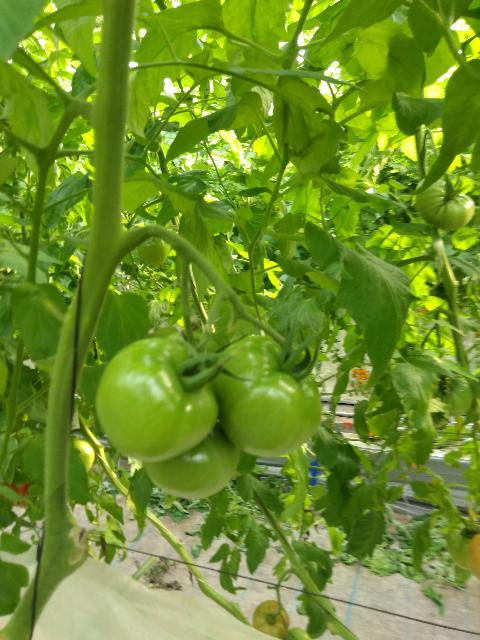b_green: (95, 337, 217, 464), (213, 335, 321, 458), (142, 422, 241, 500), (416, 174, 476, 231), (446, 521, 479, 570), (137, 237, 168, 266), (71, 439, 96, 474)
b_half_ripened: (252, 599, 290, 639), (467, 534, 480, 581)
